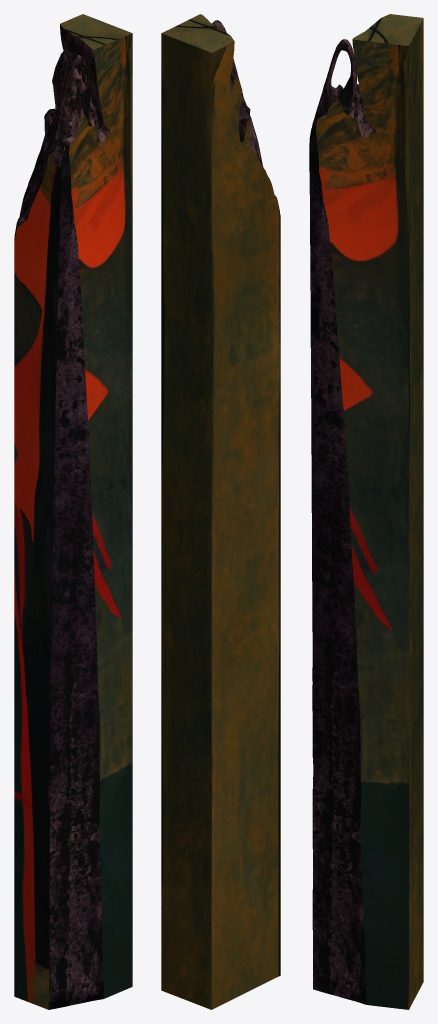
Rendered from column5.glb.
3 renders of one model, left to right at view 1: azimuth 30°, elevation 25°; view 2: azimuth 210°, elevation 25°; view 3: azimuth 330°, elevation 25°, orthographic.
Parts seen in each view (by area): view 1: Column.004; view 2: Column.004; view 3: Column.004.
Part boxes in pixels (x1,y1,x2,y2): Column.004: (14,14,132,1009); Column.004: (161,14,280,1009); Column.004: (309,14,423,1009).
Bounding box in the file's own units: 0.2231 × 2 × 0.1765.
Materials: 2 (2 with a texture image).
